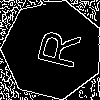R: (27, 25, 81, 71)
